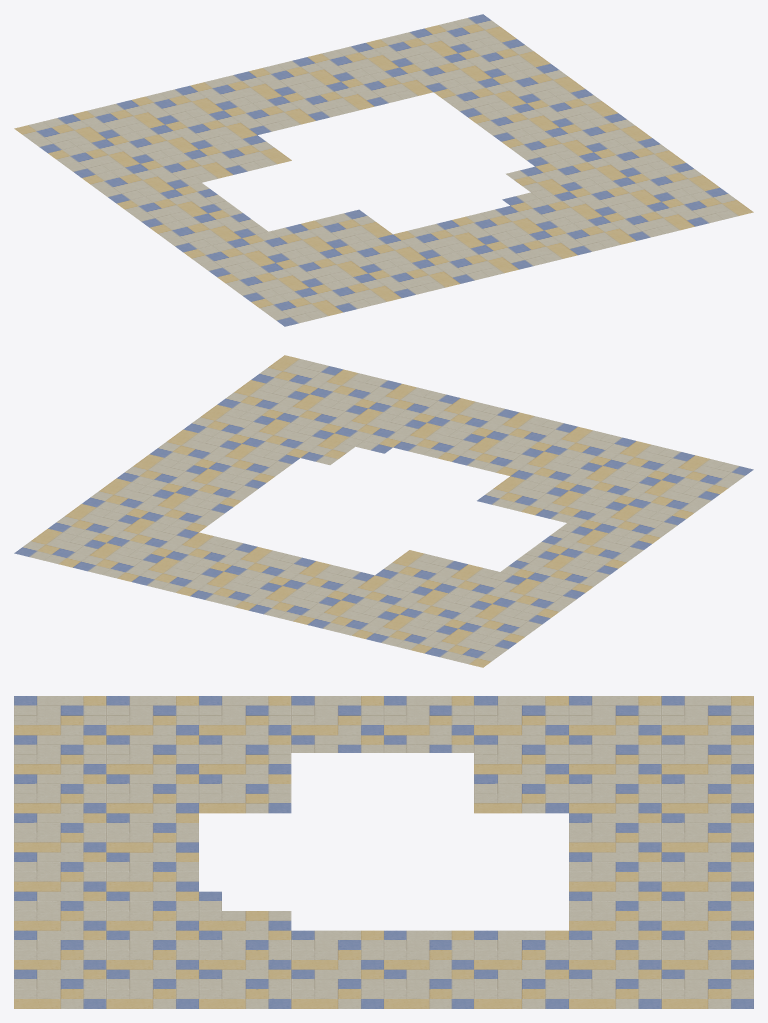
The model's file is sc_dungeon_duobiwanfa_001_b.FBX.
3 views of the same model, one above another, from view 1: azimuth 30°, elevation 25°; view 2: azimuth 150°, elevation 25°; view 3: azimuth 270°, elevation 25° (orthographic). The views are drawn at different scales.
Visible parts, largest first — view 1: sc_dungeon_duobiwanfa_001_b; view 2: sc_dungeon_duobiwanfa_001_b; view 3: sc_dungeon_duobiwanfa_001_b.
Part boxes in pixels (left/top/right/bottom): sc_dungeon_duobiwanfa_001_b: left=14, top=14, right=753, bottom=326; sc_dungeon_duobiwanfa_001_b: left=14, top=355, right=753, bottom=667; sc_dungeon_duobiwanfa_001_b: left=14, top=696, right=753, bottom=1008.
Size of the model in its own units: 110 by 0.0027 by 110.
Materials: 1 (1 with a texture image).
